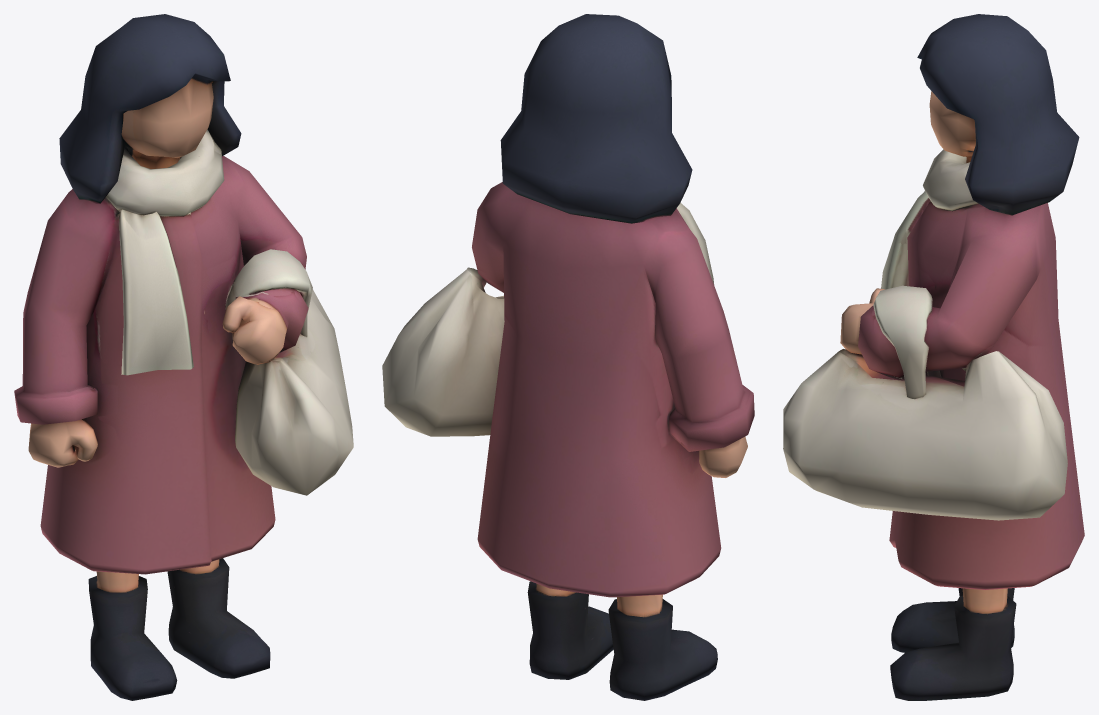
File: victoria.glb
3 renders of one model, left to right at view 1: azimuth 30°, elevation 25°; view 2: azimuth 150°, elevation 25°; view 3: azimuth 270°, elevation 25°, orthographic. The views are drawn at different scales.
Parts seen in each view (by area): view 1: tripo_node_a089f014-6471-447b-9e69-7f8077acd567; view 2: tripo_node_a089f014-6471-447b-9e69-7f8077acd567; view 3: tripo_node_a089f014-6471-447b-9e69-7f8077acd567.
Boxes of the visible parts, box(x1,y1,x2,y2) form: tripo_node_a089f014-6471-447b-9e69-7f8077acd567: box(14, 14, 353, 700); tripo_node_a089f014-6471-447b-9e69-7f8077acd567: box(382, 14, 754, 700); tripo_node_a089f014-6471-447b-9e69-7f8077acd567: box(783, 14, 1084, 700).
Bounding box in the file's own units: 0.5493 × 0.998 × 0.4253.
Materials: 1 (1 with a texture image).
